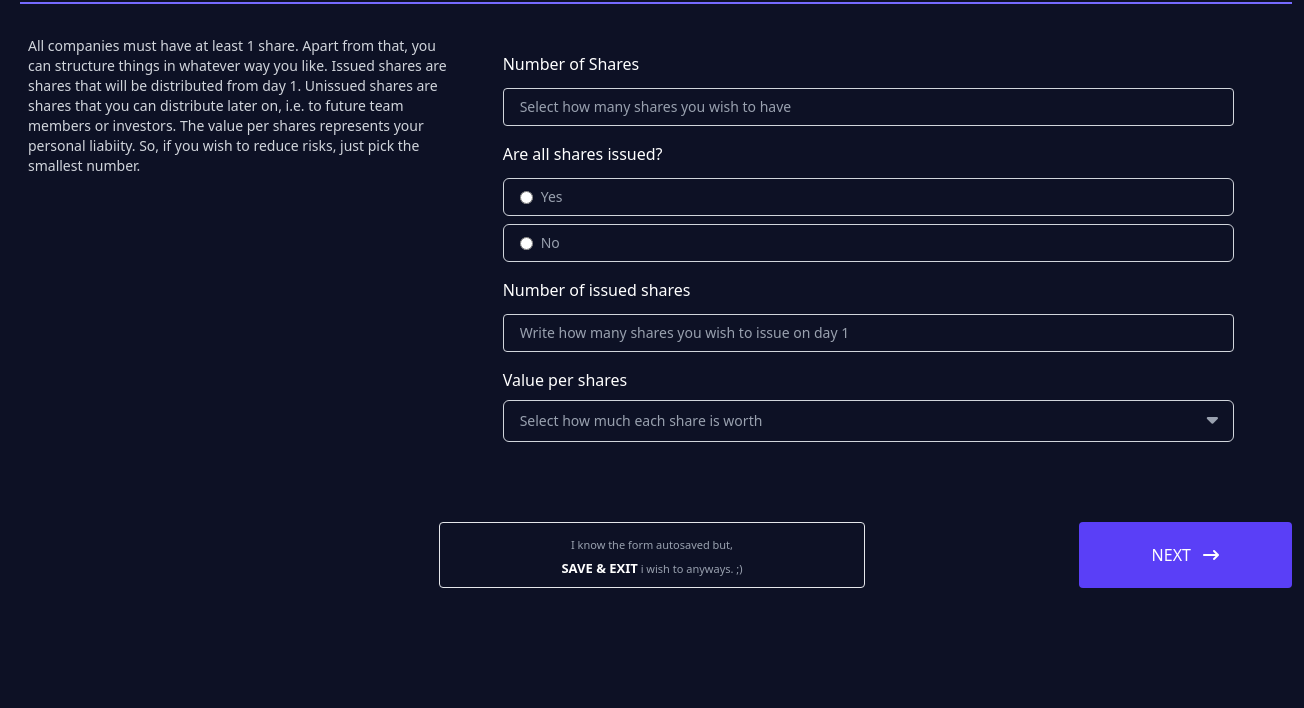
Test: Testing Home View › testing are all shares issued blank validation
(page scrolled)
Step 1. Click the button with id "nextForm" → (1185, 555), box [1079,522,1292,588]
(page scrolled)
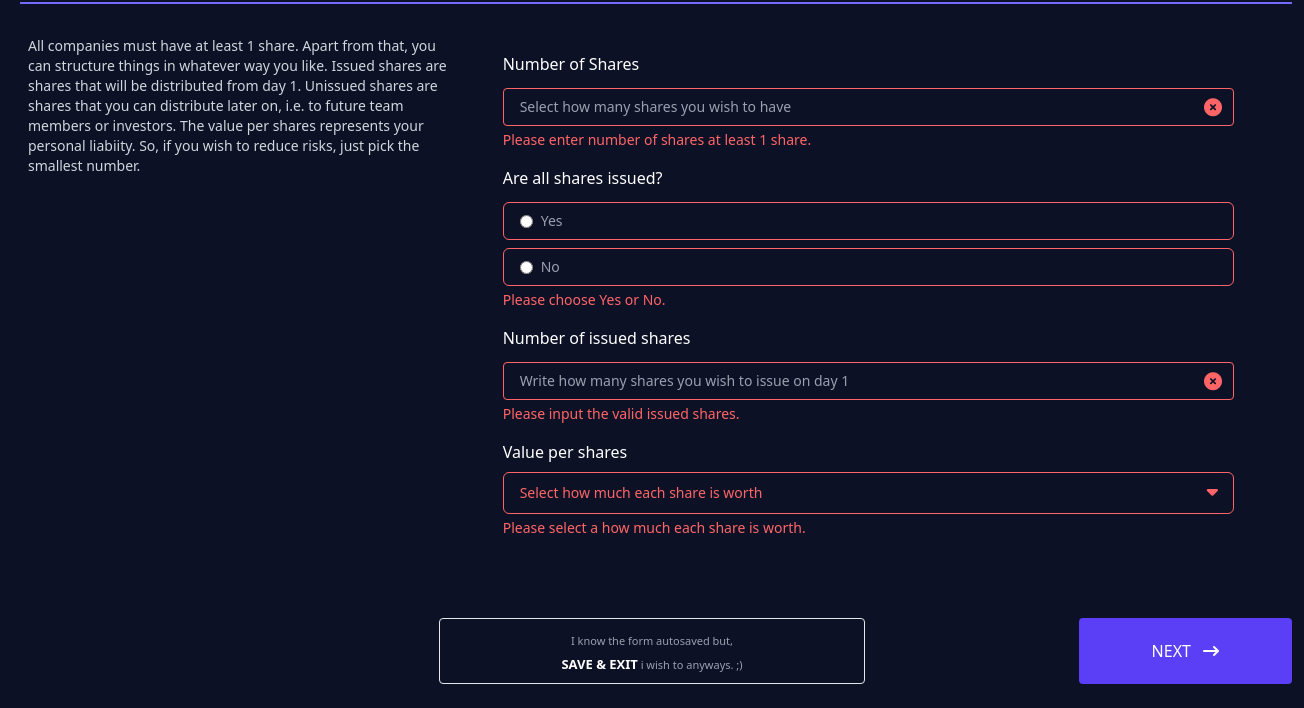
Check: the text "Please choose Yes or No." is shown, box [503,290,666,309]
